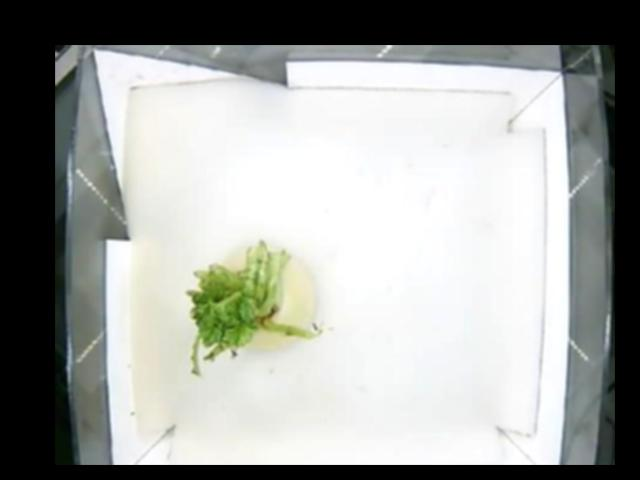Mooli: (187, 237, 321, 357)
